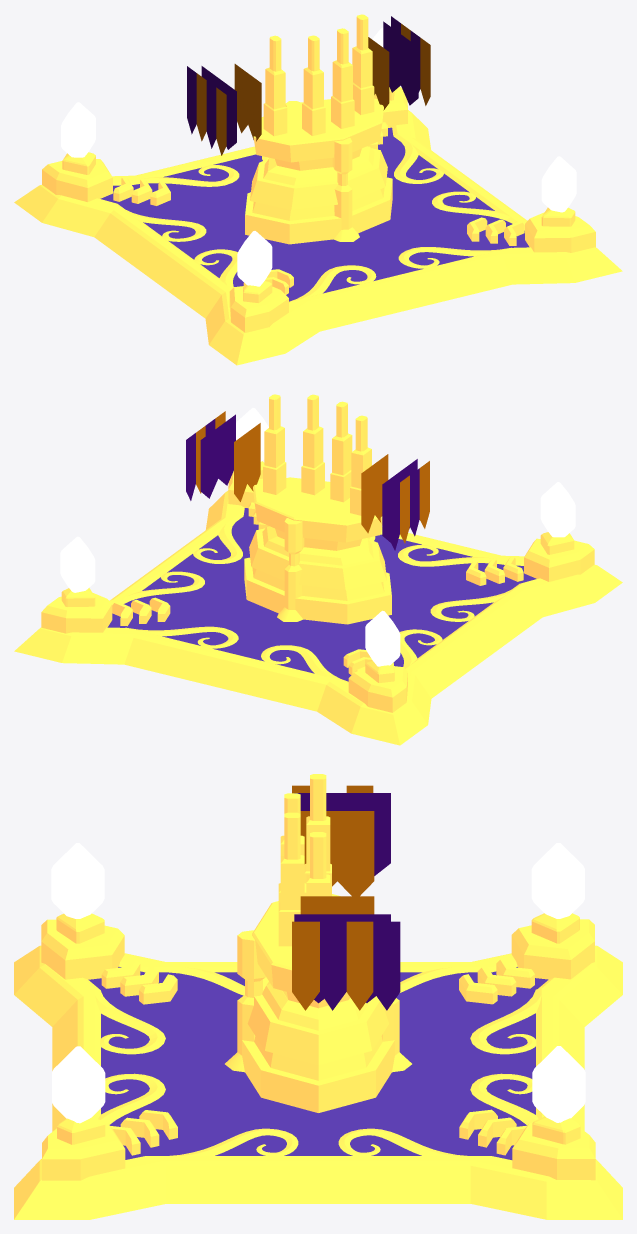
The model's file is 1_aaltar_LE_1.fbx.
3 views of the same model, one above another, from view 1: azimuth 30°, elevation 25°; view 2: azimuth 150°, elevation 25°; view 3: azimuth 270°, elevation 25° (orthographic). The views are drawn at different scales.
Parts seen in each view (by area): view 1: frame_base; view 2: frame_base; view 3: frame_base.
Part boxes in pixels (<box>): frame_base: <box>14,14,622,365</box>; frame_base: <box>14,394,622,745</box>; frame_base: <box>14,774,622,1219</box>.
Bounding box in the file's own units: 78.77 × 40.74 × 78.73.
